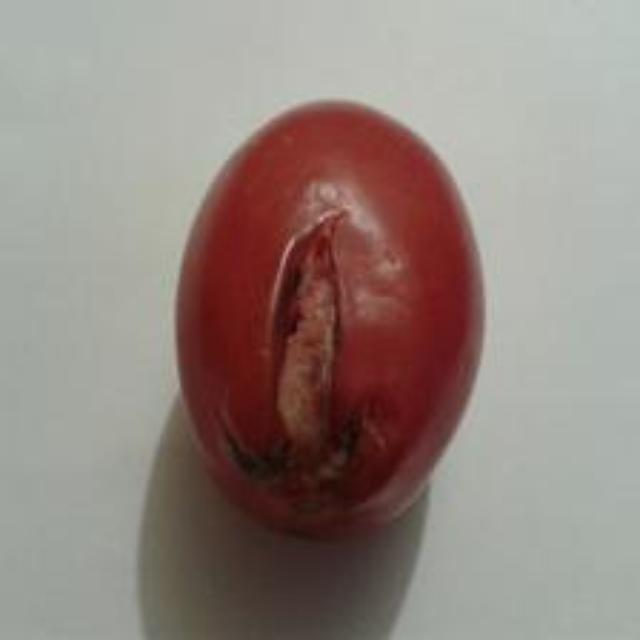defect: (170, 87, 490, 550)
